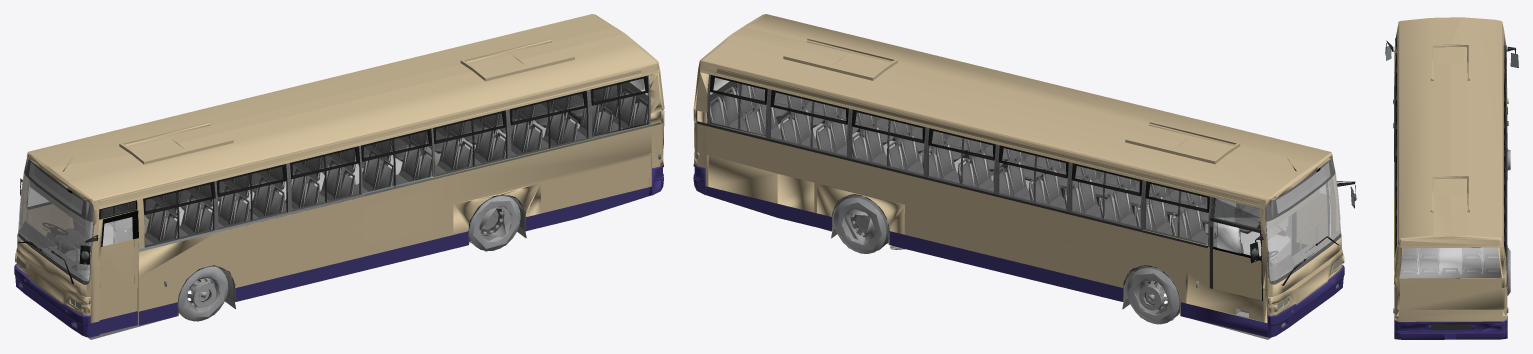
Rendered from gsrtc.glb.
The picture shows the model from 3 angles, left to right: view 1: azimuth 30°, elevation 25°; view 2: azimuth 150°, elevation 25°; view 3: azimuth 270°, elevation 25°; orthographic projection. The views are drawn at different scales.
Parts seen in each view (by area): view 1: car_detail, car_glass; view 2: car_detail, car_glass; view 3: car_detail, car_glass.
Part boxes in pixels (x1,y1,x2,y2): car_detail: [14, 14, 664, 339]; car_glass: [17, 77, 650, 287]; car_detail: [693, 14, 1356, 339]; car_glass: [708, 77, 1341, 284]; car_detail: [1385, 17, 1518, 339]; car_glass: [1394, 34, 1505, 278].
Size of the model in its own units: 10.6 by 2.82 by 2.64.
